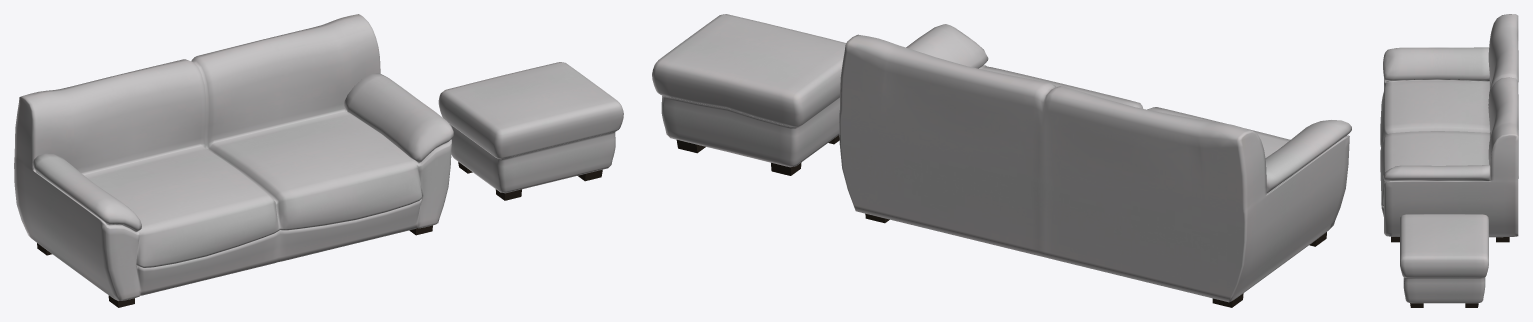
Rendered from Vreta_2_Seat_Sofa_And_Footstool-3D.DAE.
3 views of the same model, side by side, from view 1: azimuth 30°, elevation 25°; view 2: azimuth 150°, elevation 25°; view 3: azimuth 270°, elevation 25° (orthographic). The views are drawn at different scales.
Visible parts, largest first — view 1: Object02-Pivot, Object04-Pivot; view 2: Object02-Pivot, Object04-Pivot; view 3: Object02-Pivot, Object04-Pivot.
Part boxes in pixels (x1,y1,x2,y2): Object02-Pivot: (14, 14, 453, 307); Object04-Pivot: (438, 62, 623, 200); Object02-Pivot: (839, 24, 1351, 307); Object04-Pivot: (652, 14, 846, 175); Object02-Pivot: (1380, 14, 1518, 242); Object04-Pivot: (1400, 214, 1488, 307).
Bounding box in the file's own units: 3260 × 897 × 998.
